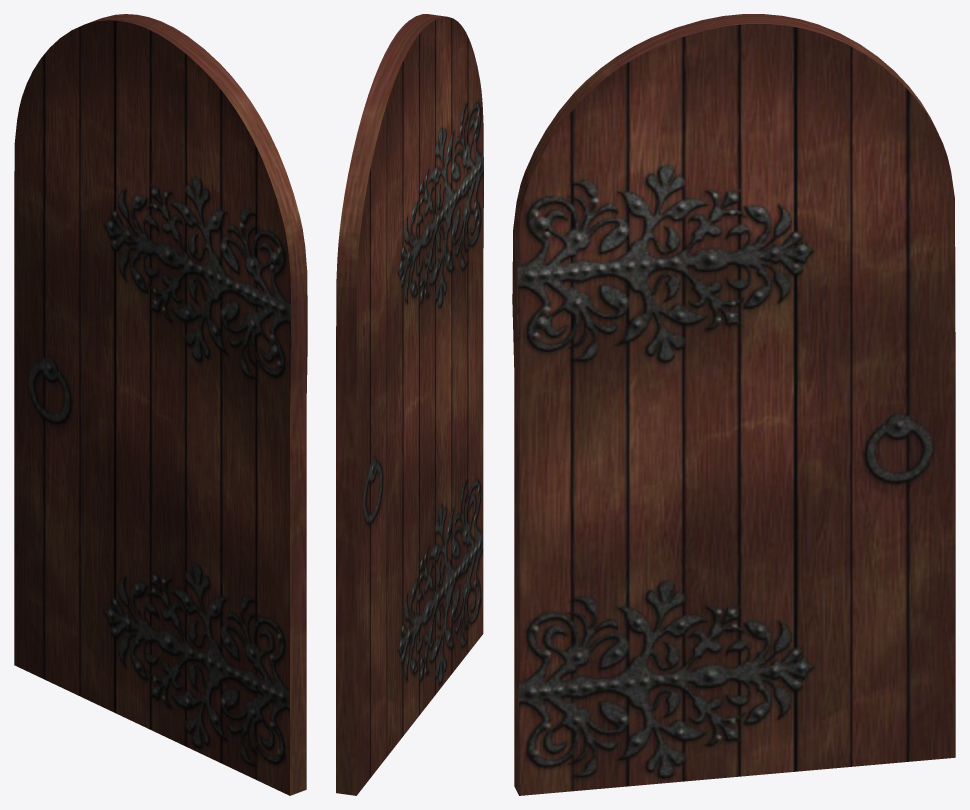
The model's file is door 24.obj.
3 renders of one model, left to right at view 1: azimuth 30°, elevation 25°; view 2: azimuth 150°, elevation 25°; view 3: azimuth 270°, elevation 25°, orthographic. The views are drawn at different scales.
Visible parts, largest first — view 1: door_10:Mesh; view 2: door_10:Mesh; view 3: door_10:Mesh.
Boxes of the visible parts, x1,y1,x2,y2 form: door_10:Mesh: (14, 14, 307, 795); door_10:Mesh: (336, 14, 483, 795); door_10:Mesh: (512, 14, 955, 795).
Size of the model in its own units: 16.5 by 120 by 64.
1 material, 1 textured.
